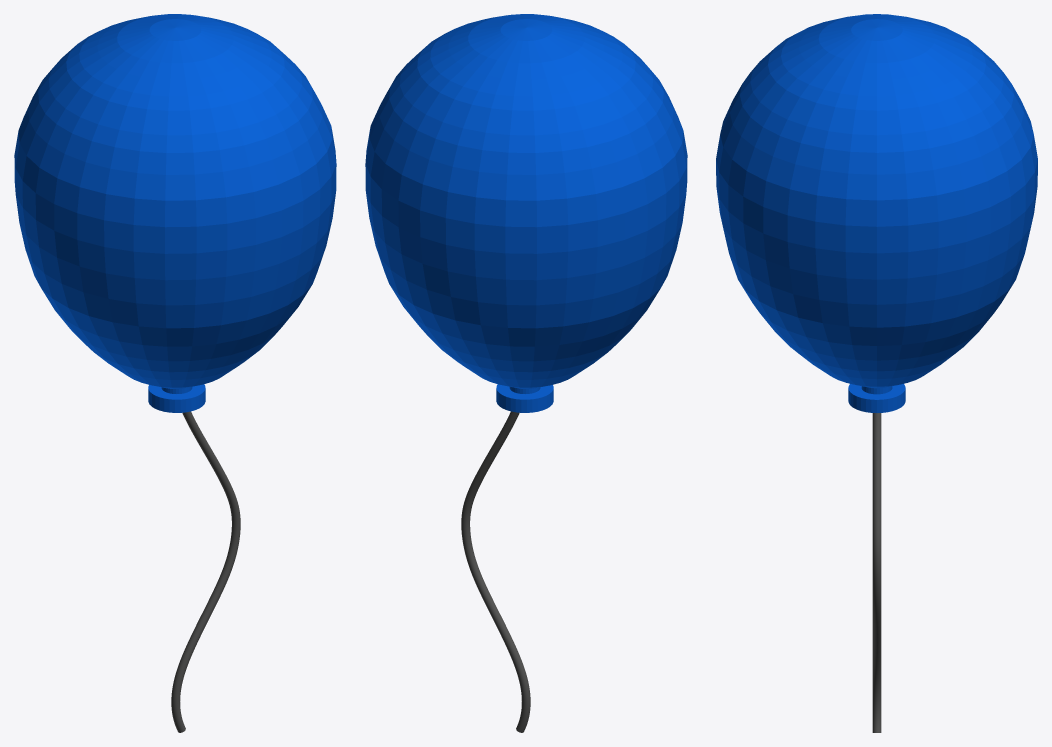
Rendered from ss_balloon4.gltf.
The picture shows the model from 3 angles, left to right: view 1: azimuth 30°, elevation 25°; view 2: azimuth 150°, elevation 25°; view 3: azimuth 270°, elevation 25°; orthographic projection.
Parts seen in each view (by area): view 1: Cylinder, NurbsPath; view 2: Cylinder, NurbsPath; view 3: Cylinder, NurbsPath.
Part boxes in pixels (box(x1,y1,x2,y2)): Cylinder: box(14, 14, 336, 412); NurbsPath: box(171, 411, 240, 732); Cylinder: box(365, 14, 687, 412); NurbsPath: box(461, 411, 530, 732); Cylinder: box(716, 14, 1037, 412); NurbsPath: box(872, 413, 881, 732).
Bounding box in the file's own units: 0.5947 × 1.43 × 0.5947.
